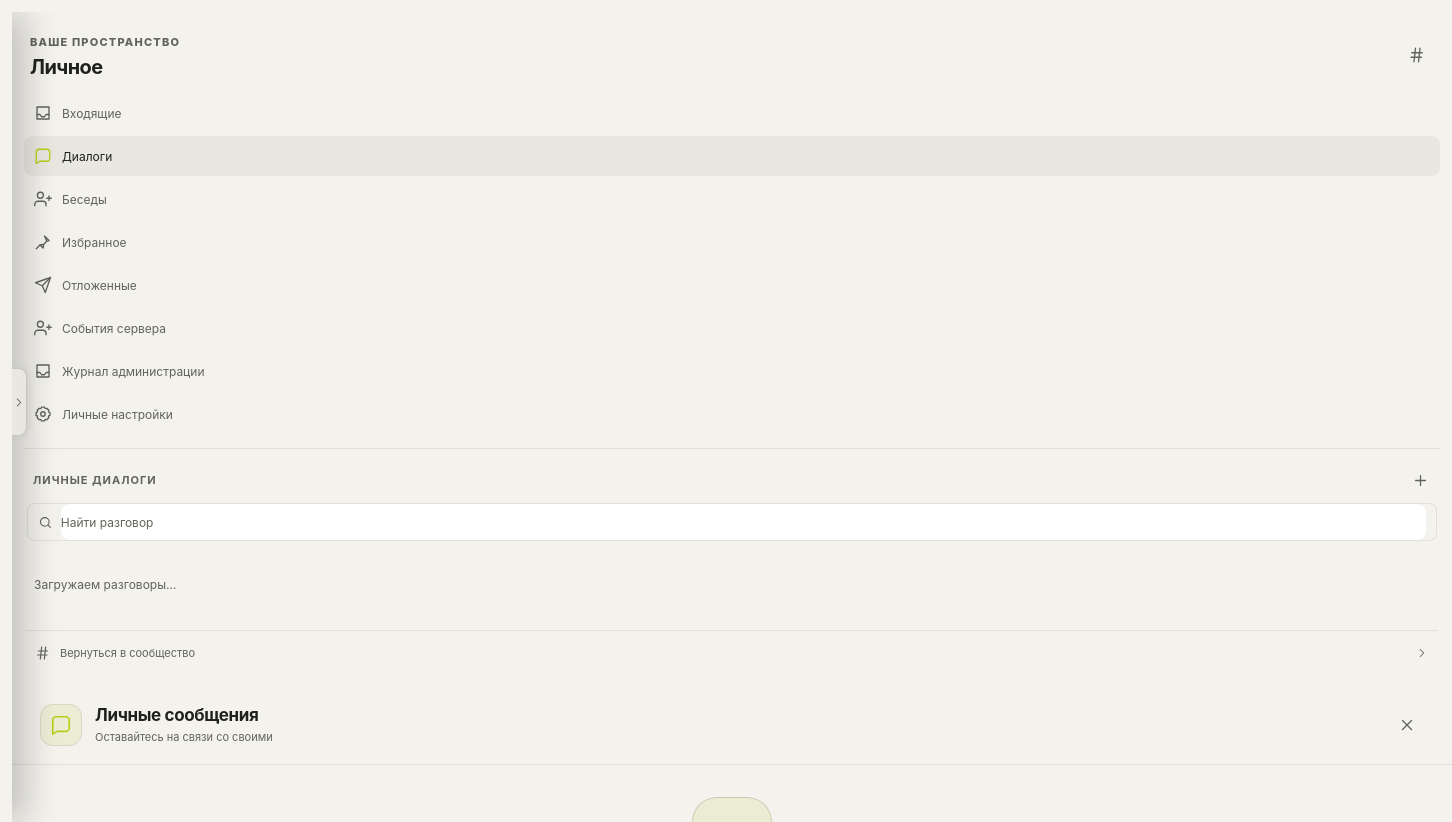
Test: does not reopen a direct chat when its request finishes after navigating away
Click the button named "Вернуться к каналам" in the row of "ВАШЕ ПРОСТРАНСТВО" at (1417, 54), box left=1400, top=38, right=1434, bottom=72
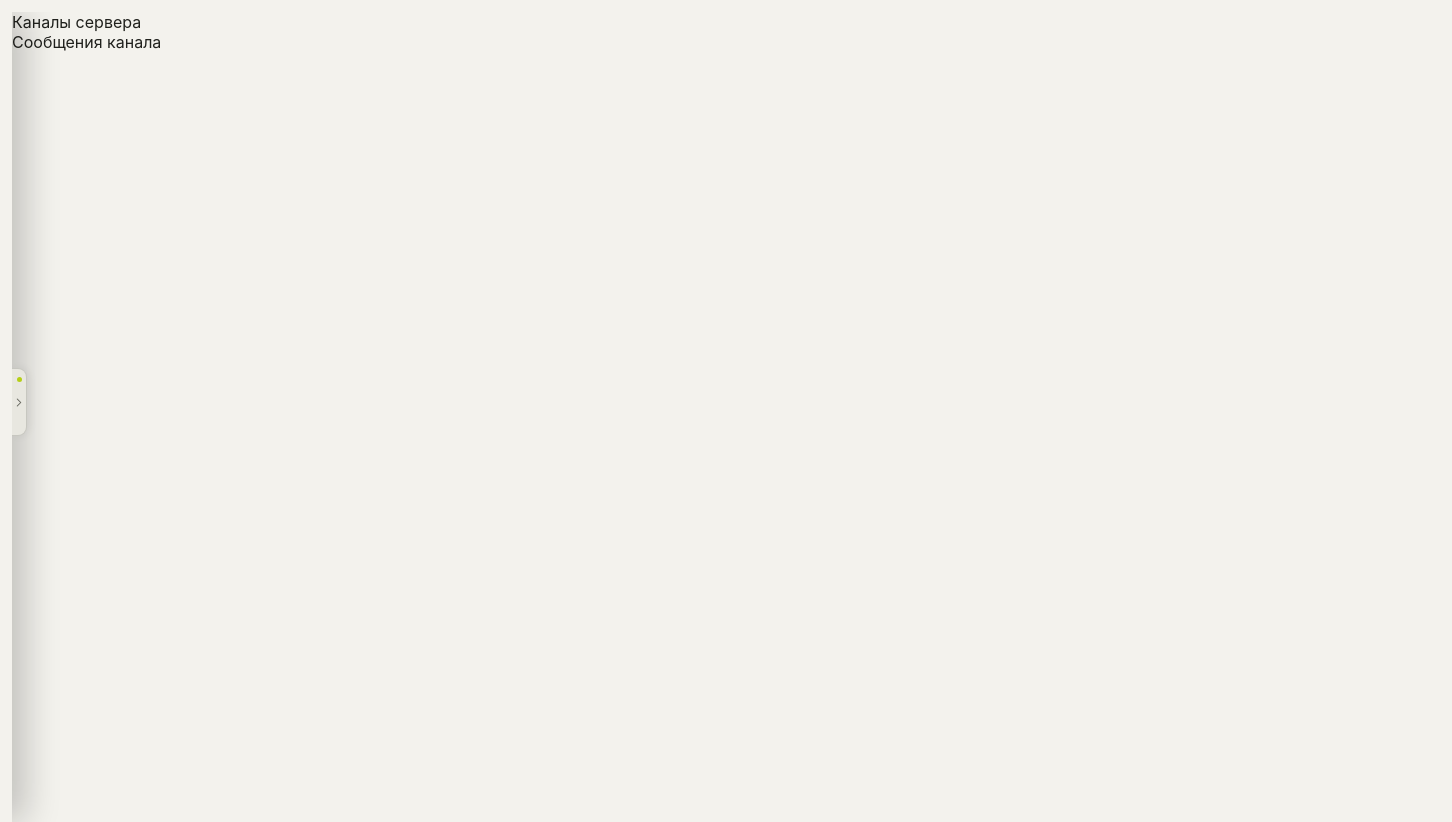
Check: the text "Каналы сервера" is shown, box left=12, top=12, right=141, bottom=32
